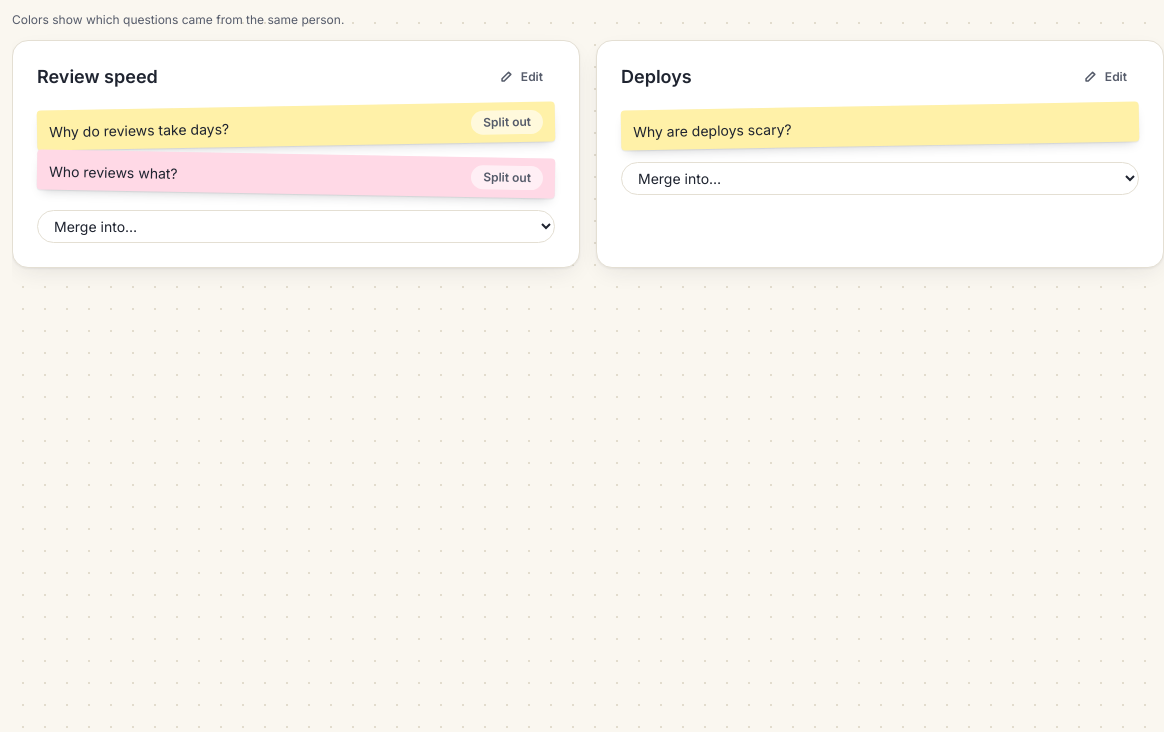
Test: Consolidate › opens an editor focused on the current wording
The width and height of the screenshot is (1164, 732).
Click the button with aria-label "Edit question: Review speed" at [521, 77], box [487,65,555,89]
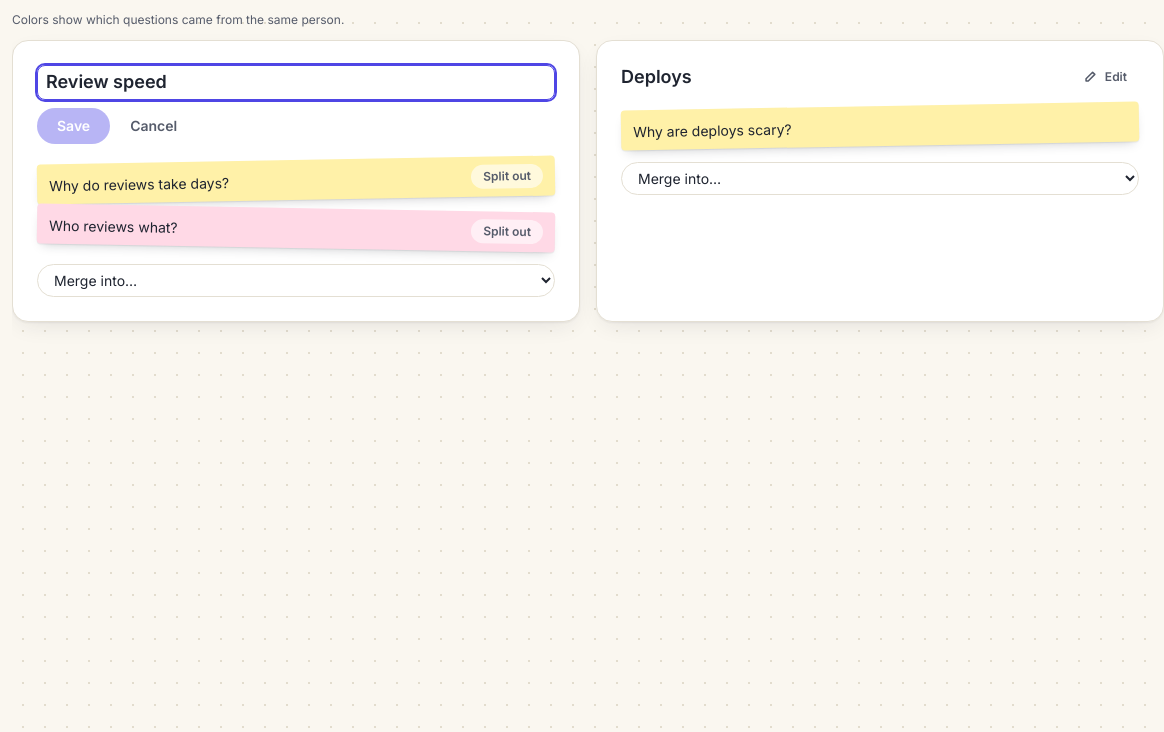
expect the text box named "Question wording" holds "Review speed": met, box [37,65,555,100]
